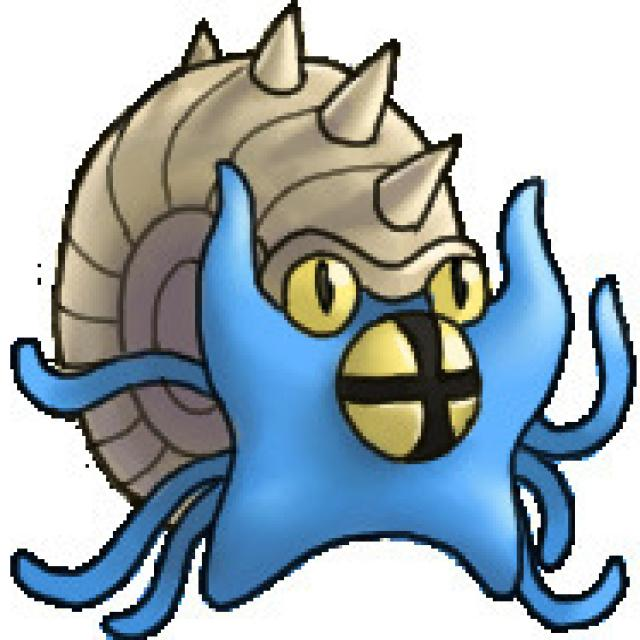Omastar: (38, 18, 631, 640)
